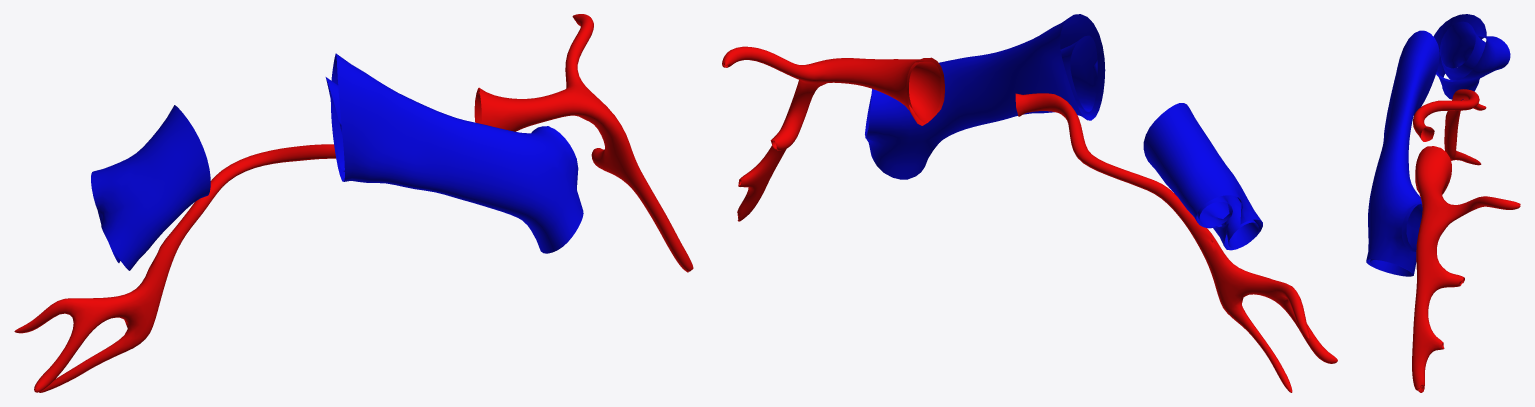
Rendered from VH_F_Blood_Vasculature_Kidney.fbx.
3 renders of one model, left to right at view 1: azimuth 30°, elevation 25°; view 2: azimuth 150°, elevation 25°; view 3: azimuth 270°, elevation 25°, orthographic. The views are drawn at different scales.
Parts seen in each view (by area): view 1: VH_F_left_renal_vein, VH_F_right_renal_vein, VH_F_right_renal_artery, VH_F_left_renal_artery; view 2: VH_F_left_renal_vein, VH_F_left_renal_artery, VH_F_right_renal_vein, VH_F_right_renal_artery; view 3: VH_F_left_renal_vein, VH_F_left_renal_artery, VH_F_right_renal_vein, VH_F_right_renal_artery.
Boxes of the visible parts, bbox=[...] form: VH_F_left_renal_vein: bbox=[325, 53, 583, 253]; VH_F_right_renal_vein: bbox=[91, 105, 210, 270]; VH_F_right_renal_artery: bbox=[14, 144, 335, 392]; VH_F_left_renal_artery: bbox=[474, 14, 693, 272]; VH_F_left_renal_vein: bbox=[865, 14, 1105, 179]; VH_F_left_renal_artery: bbox=[722, 46, 944, 221]; VH_F_right_renal_vein: bbox=[1143, 103, 1262, 250]; VH_F_right_renal_artery: bbox=[1015, 93, 1337, 392]; VH_F_left_renal_vein: bbox=[1366, 30, 1439, 276]; VH_F_left_renal_artery: bbox=[1412, 146, 1520, 392]; VH_F_right_renal_vein: bbox=[1433, 14, 1510, 100]; VH_F_right_renal_artery: bbox=[1413, 89, 1486, 165].
Size of the model in its own units: 13.34 by 6.01 by 3.64.
